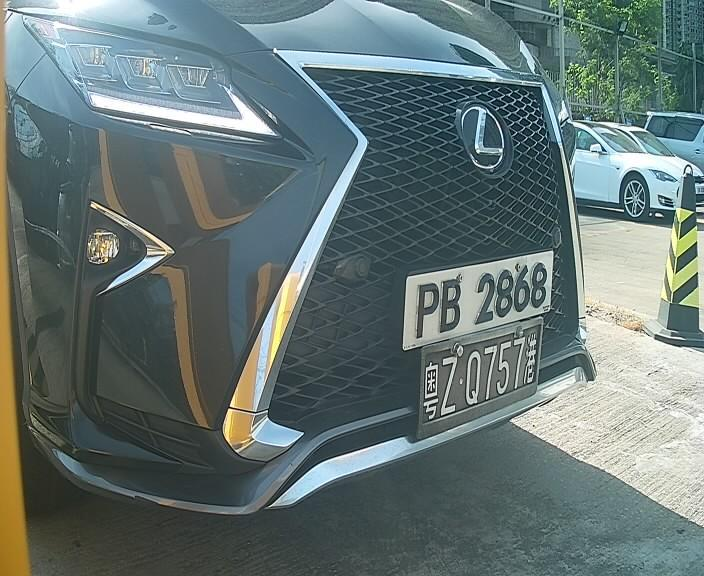privatecar: (3, 1, 606, 528)
